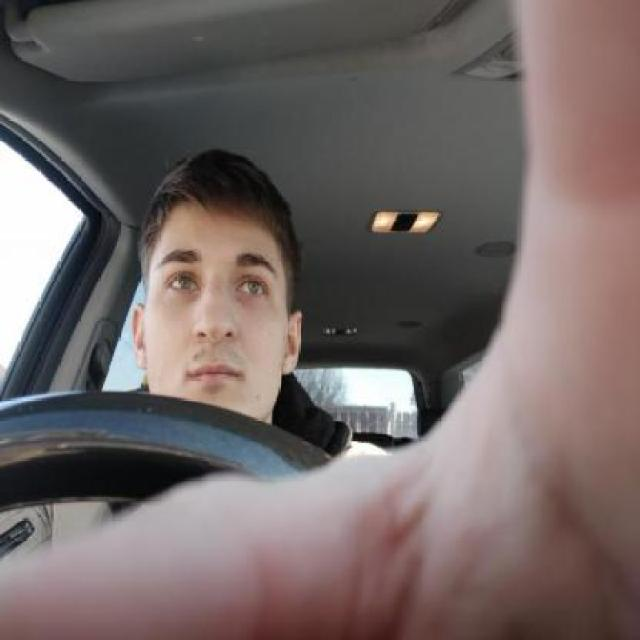awake: (166, 269, 200, 294), (236, 273, 270, 298)
